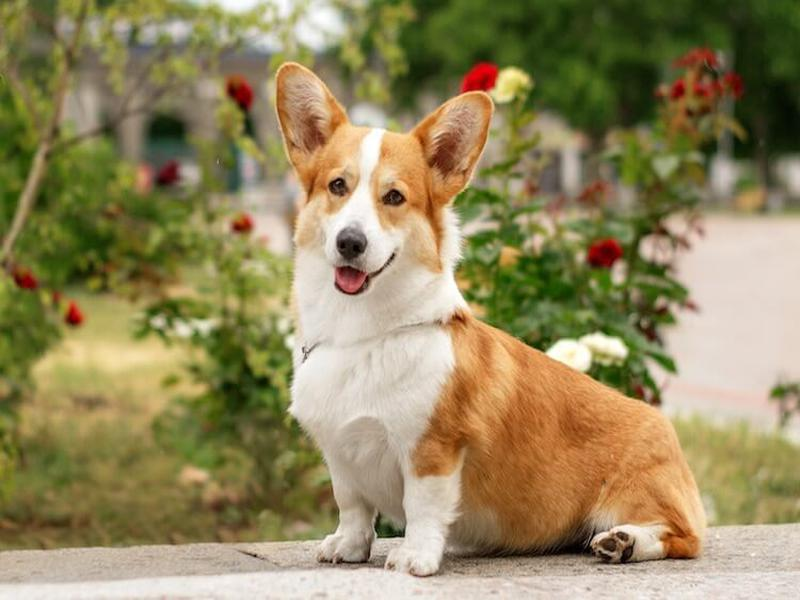corgi: (271, 60, 496, 297)
